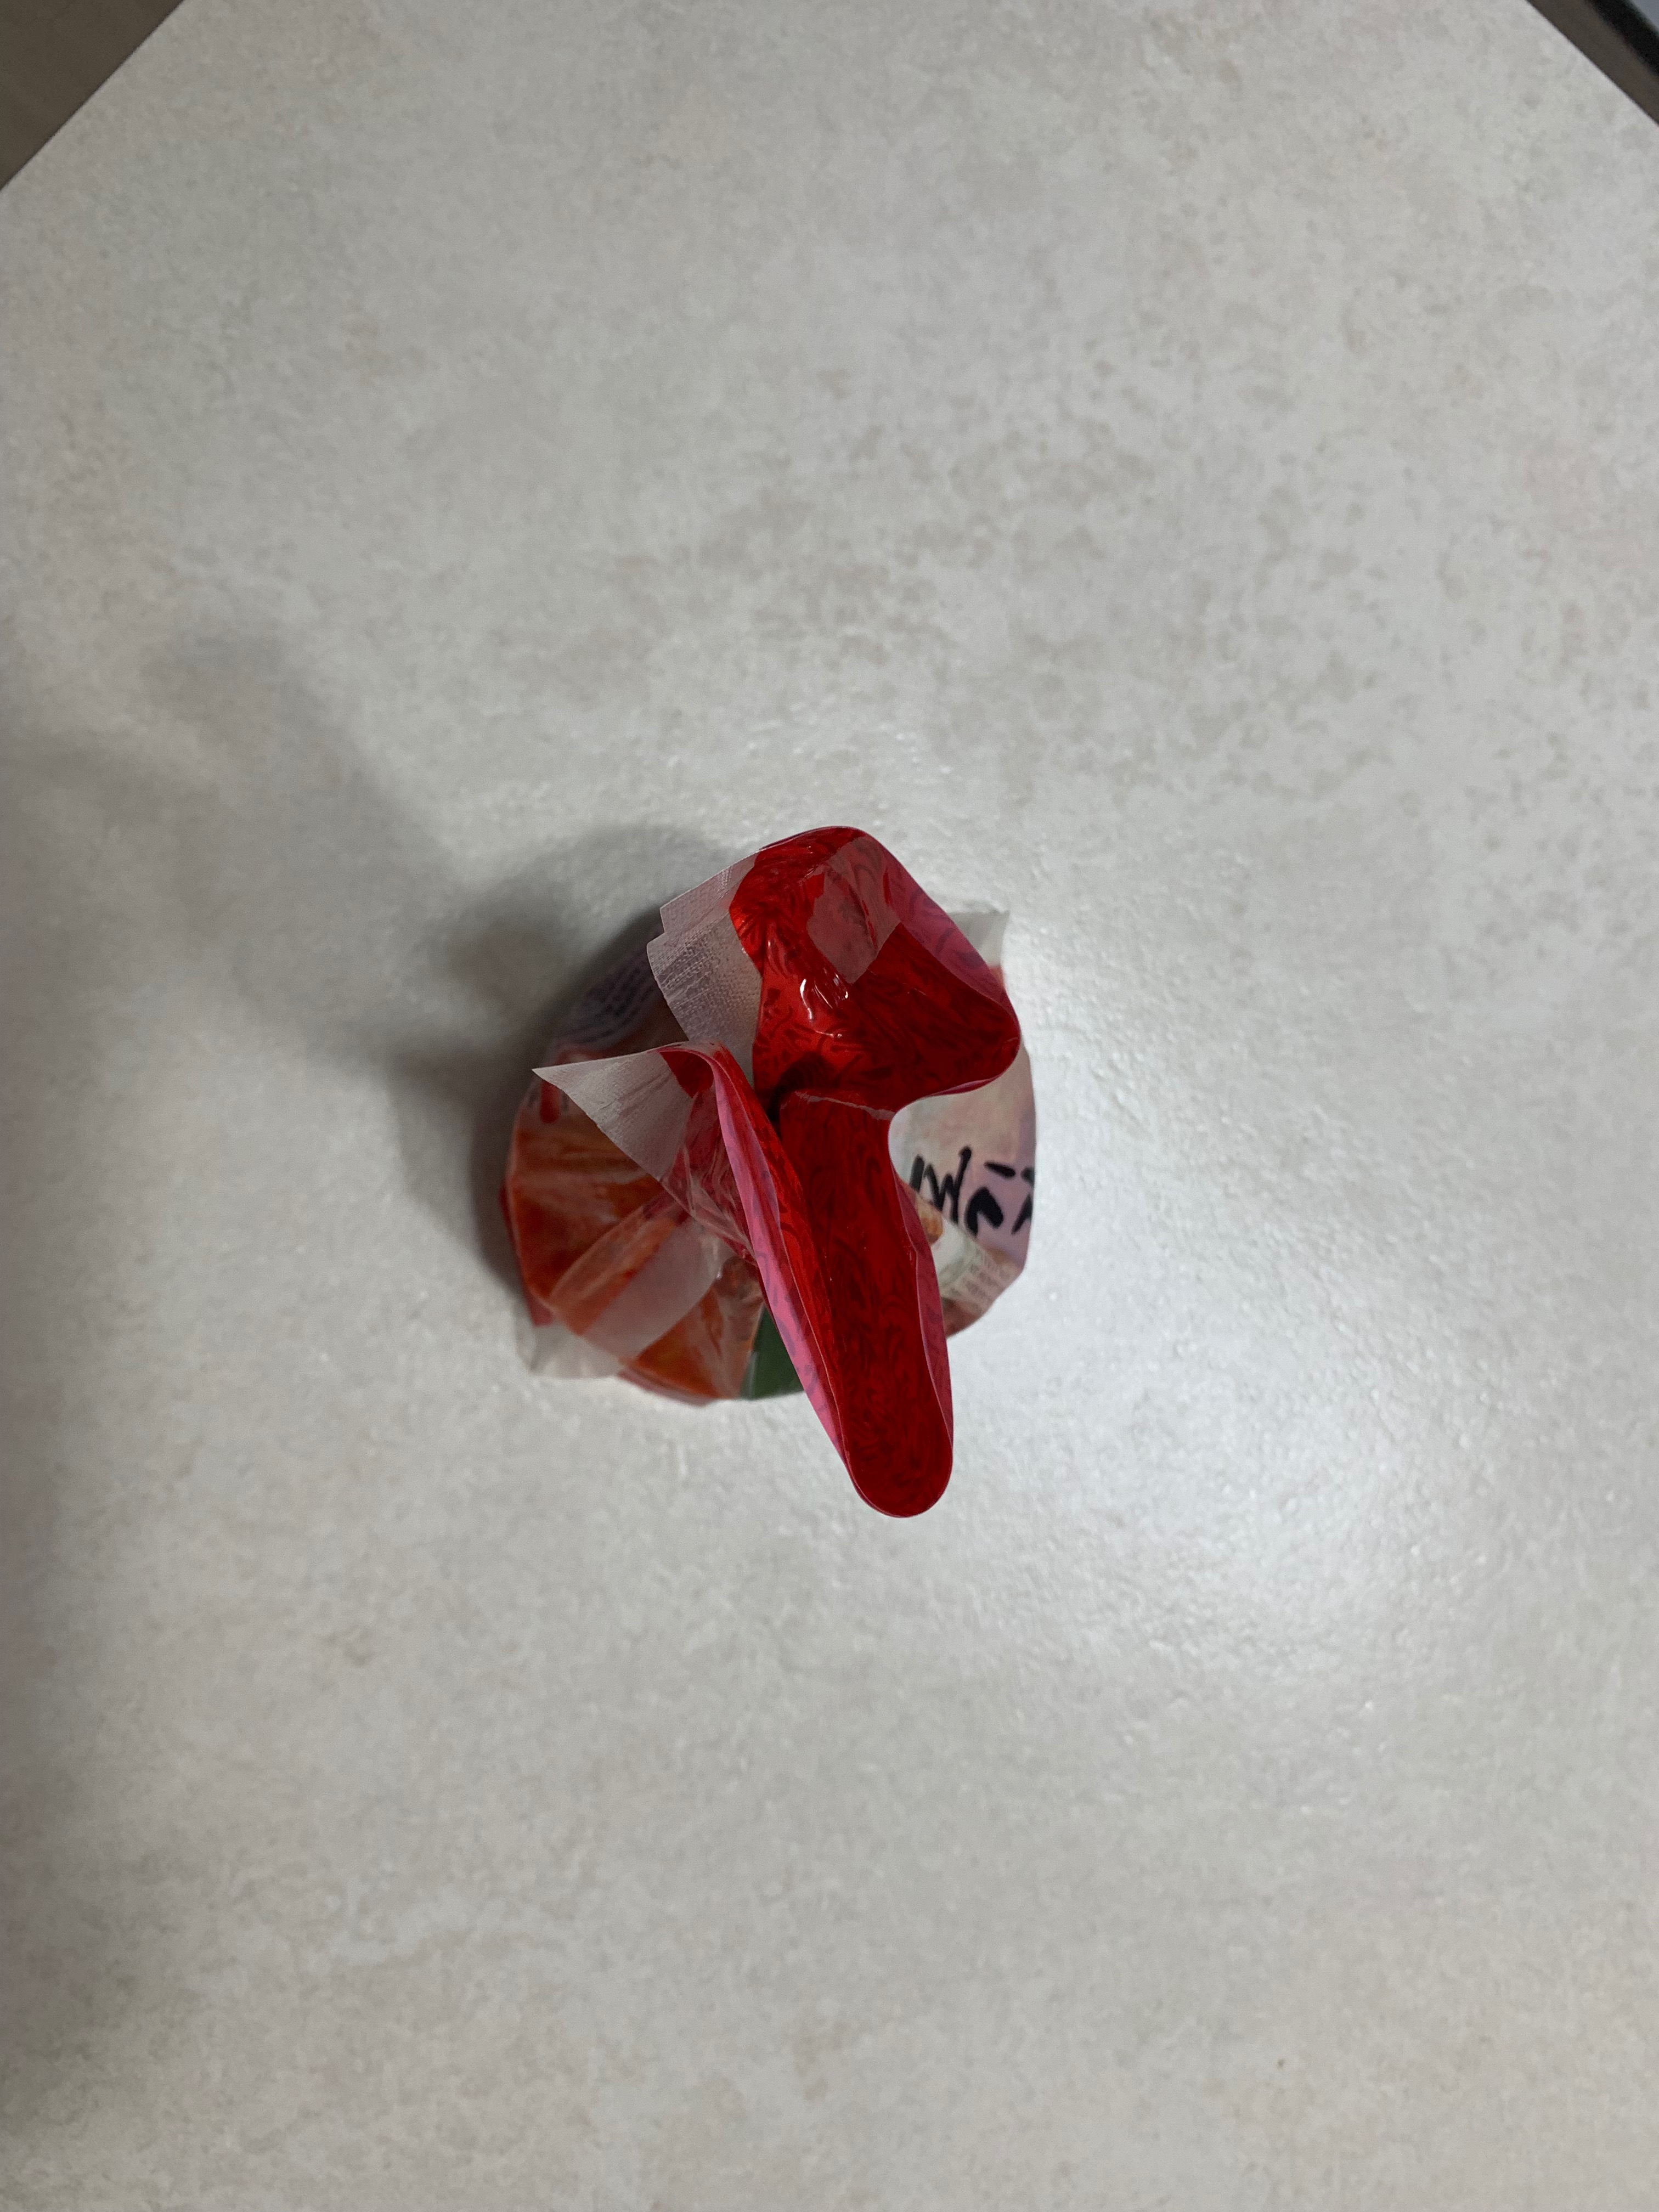kimchi: (514, 829, 1046, 1512)
